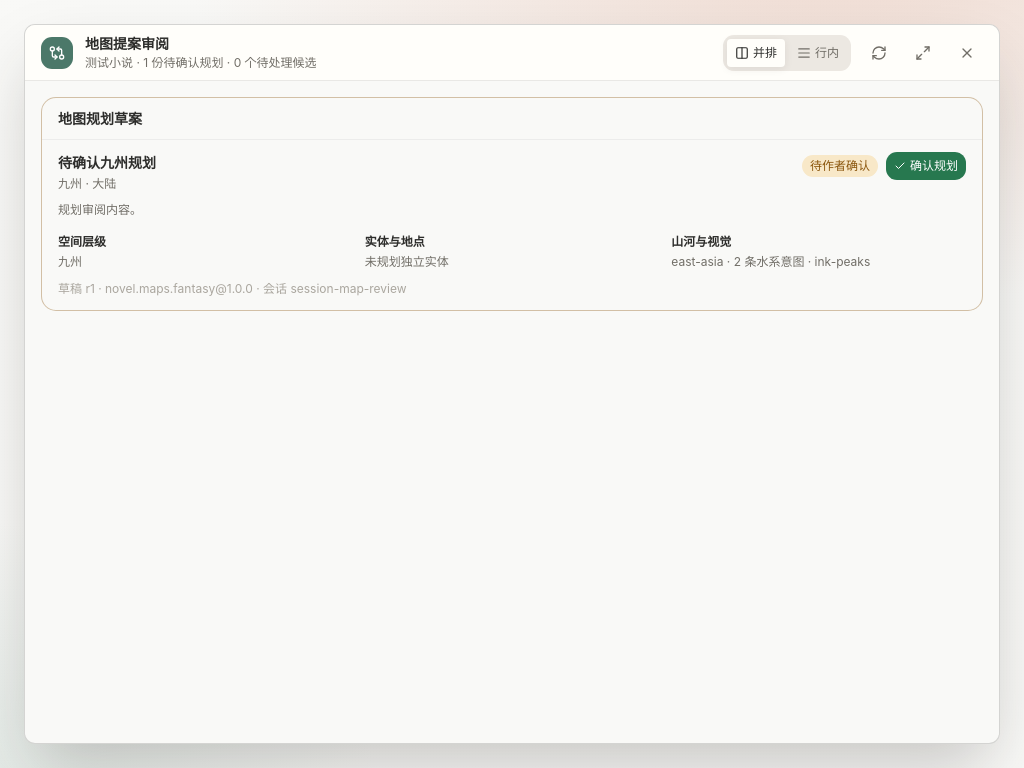
Scenario: MapProposalReview › 允许作者确认规划并从待确认列表移除
Click the button "确认规划": [926, 166] box [886, 152, 966, 180]
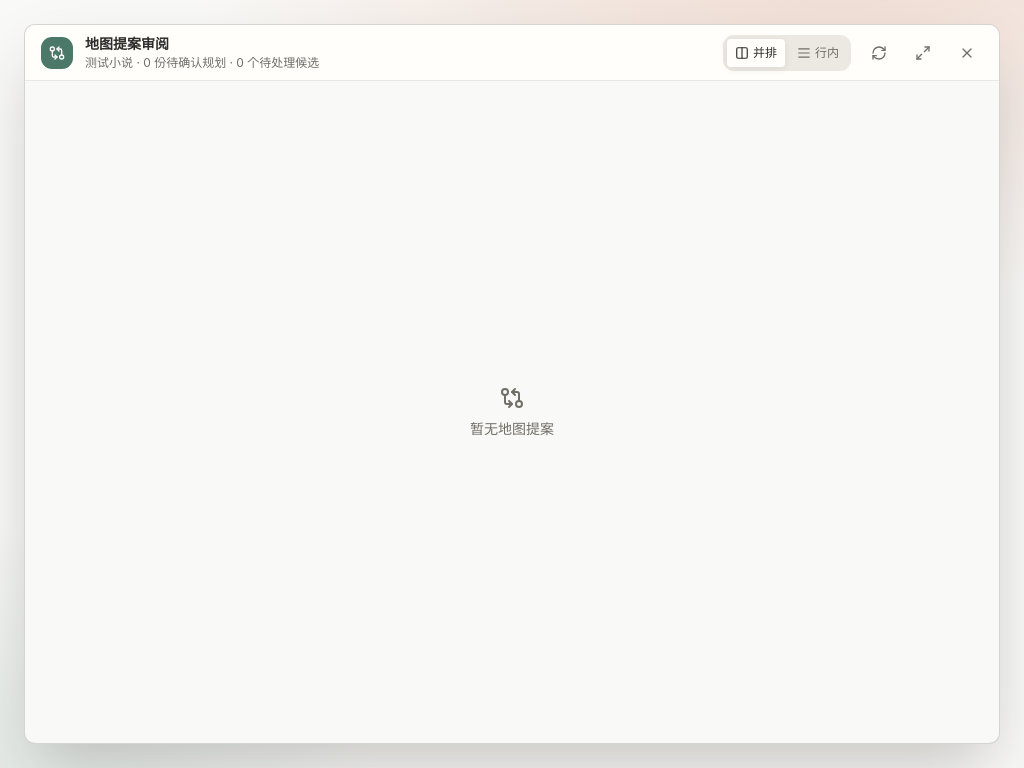
Expected: the text "待确认九州规划" is gone
